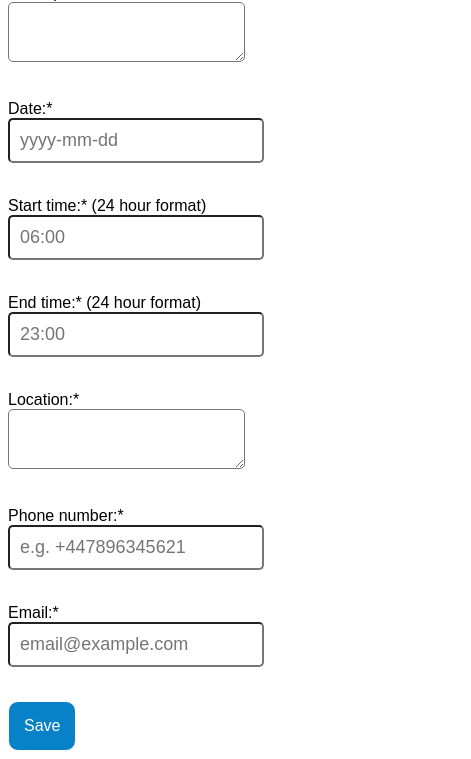
Test case: CreateEventForm component › Email input validation › Error message is displayed if email not in the correct format
(page scrolled)
In the field with test id "input-email": (136, 644) [8,622,264,667], type "testemail.com"
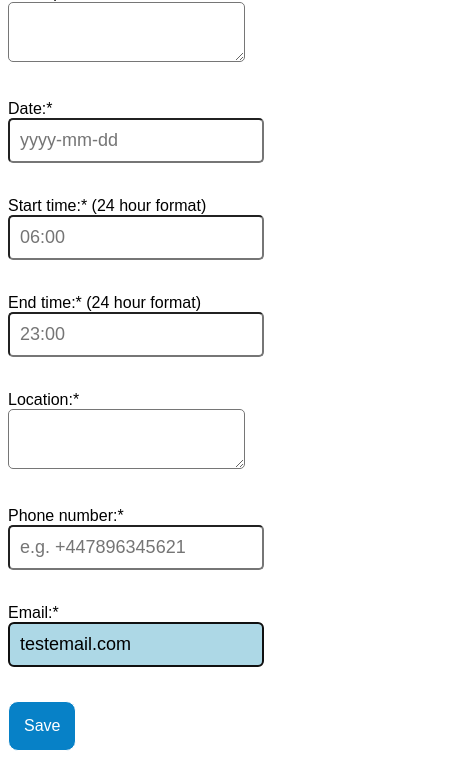
Click the button "Save": click(42, 726) [8,701,76,751]
(page scrolled)
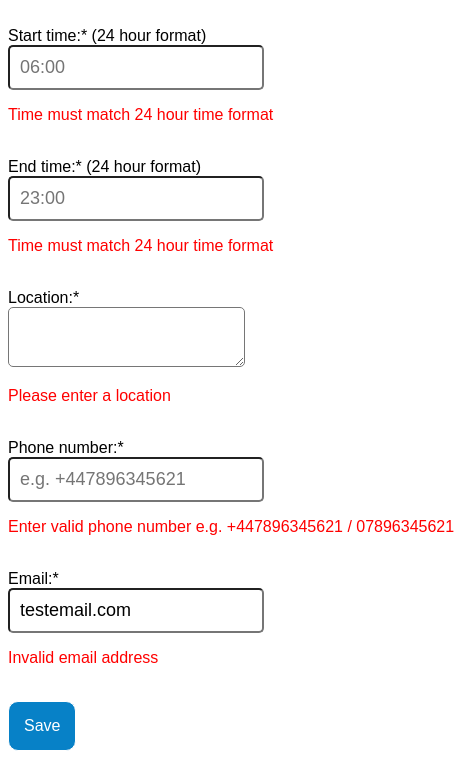
Check: the text "Invalid email address" is shown, box [8,649,158,666]
